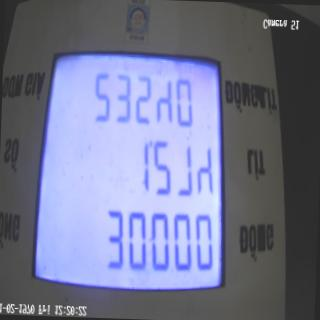screen: (27, 42, 235, 310)
